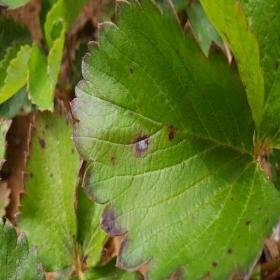Leaf Spot: (69, 0, 279, 279), (13, 91, 87, 273), (200, 0, 279, 147), (75, 185, 112, 268), (0, 215, 47, 279)
